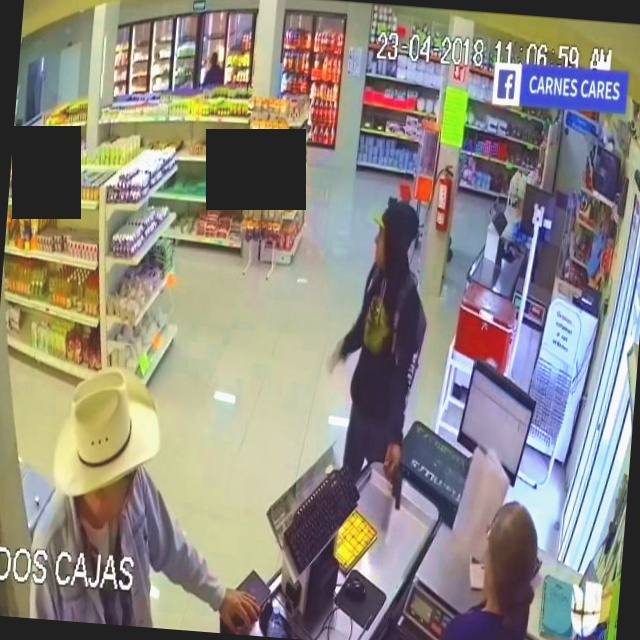gun: (379, 450, 415, 522)
